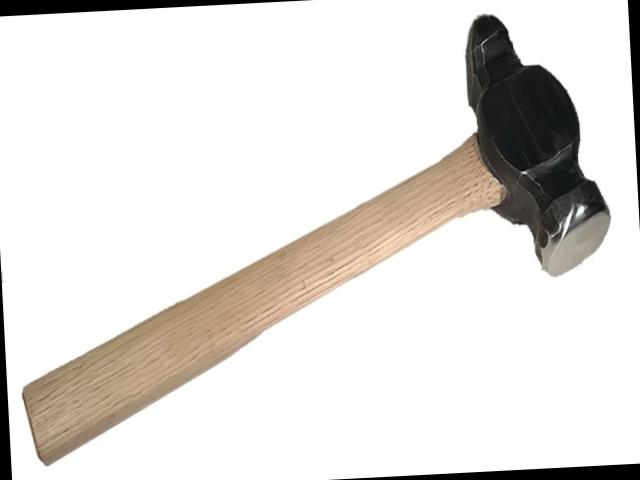hammer: (2, 7, 624, 466)
